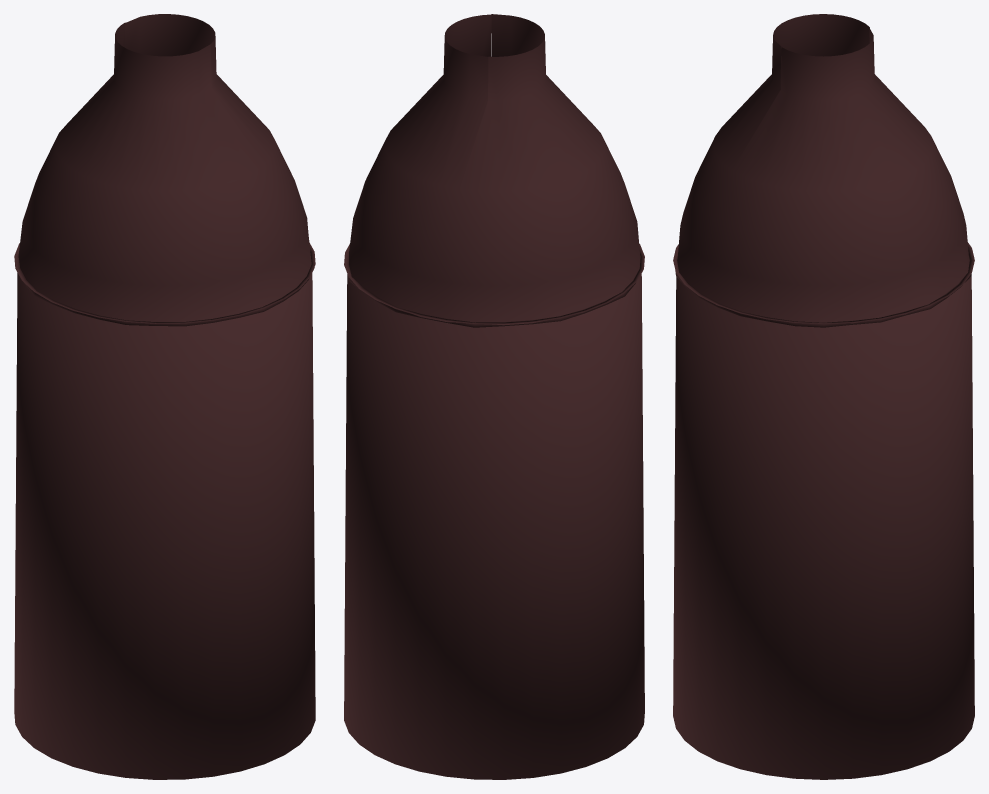
File: brazowaButelka.fbx
3 renders of one model, left to right at view 1: azimuth 30°, elevation 25°; view 2: azimuth 150°, elevation 25°; view 3: azimuth 270°, elevation 25°, orthographic.
Visible parts, largest first — view 1: Cylinder.001; view 2: Cylinder.001; view 3: Cylinder.001.
Part boxes in pixels (x1=…): Cylinder.001: x1=14, y1=14, x2=315, y2=779; Cylinder.001: x1=344, y1=14, x2=644, y2=779; Cylinder.001: x1=673, y1=14, x2=974, y2=779.
Size of the model in its own units: 6 by 14.95 by 6.
